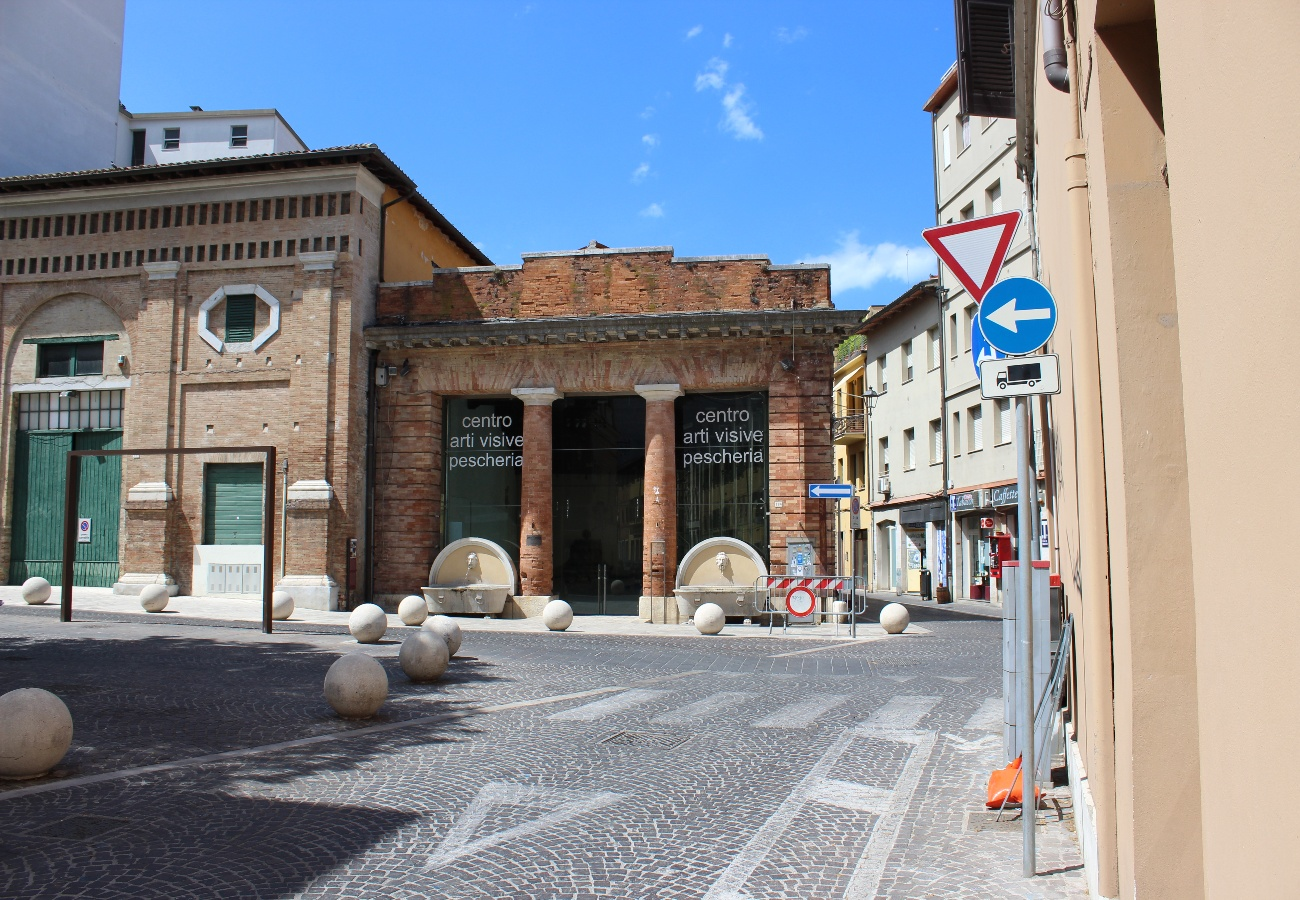Centro Arti Visive Pescheria: (357, 243, 833, 633)
